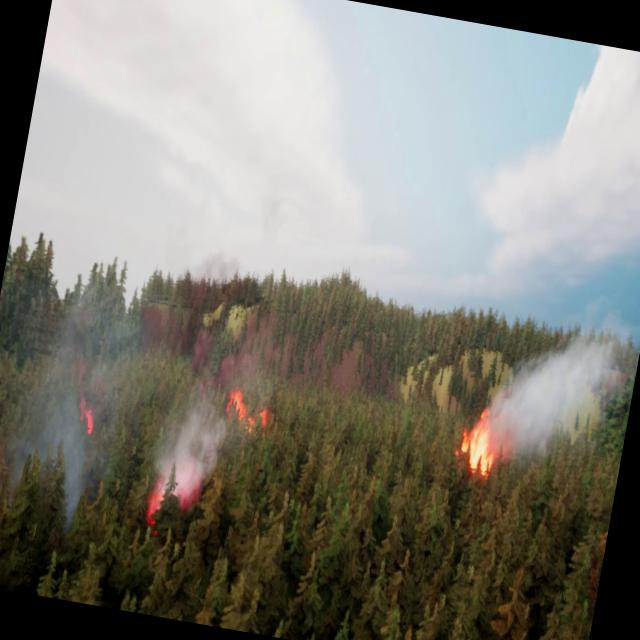fire: (448, 406, 520, 486), (224, 382, 278, 438)
smoke: (5, 290, 121, 516), (485, 303, 626, 477), (146, 388, 228, 546)
